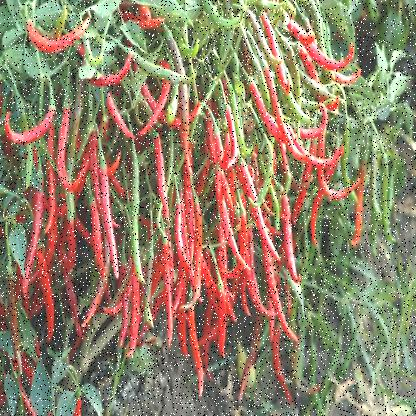chili: (256, 232, 302, 344), (96, 147, 122, 283), (246, 79, 287, 149), (181, 305, 209, 398), (148, 131, 175, 223), (32, 245, 58, 337), (58, 107, 84, 195), (187, 192, 205, 311), (102, 78, 136, 140), (214, 278, 237, 363), (61, 204, 83, 283), (219, 106, 244, 172), (127, 263, 143, 355)
